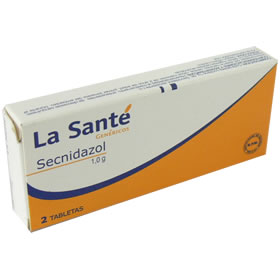LaSante: (25, 64, 276, 228)
